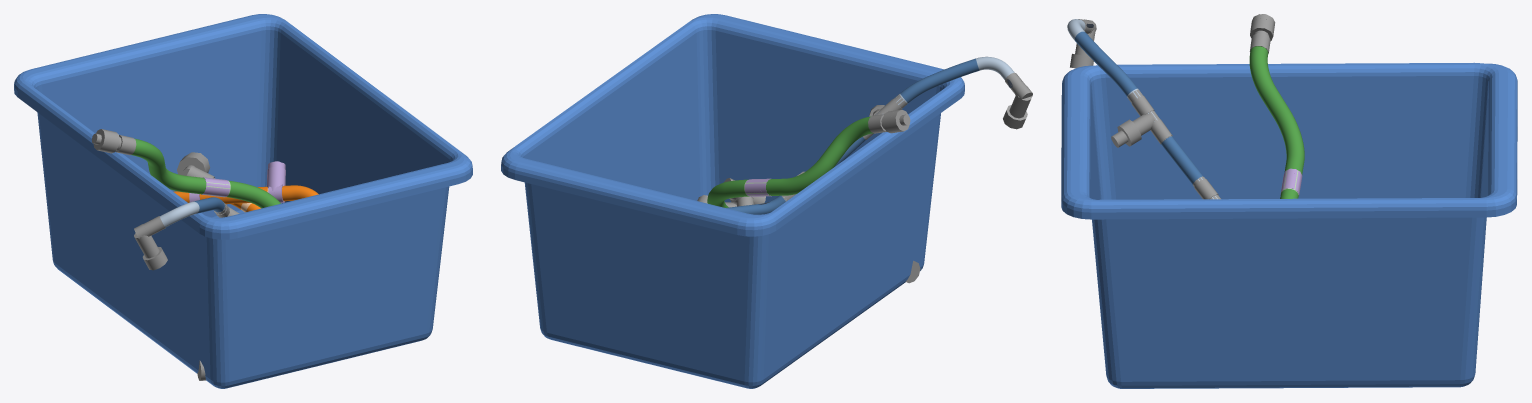
3 renders of one model, left to right at view 1: azimuth 30°, elevation 25°; view 2: azimuth 150°, elevation 25°; view 3: azimuth 270°, elevation 25°, orthographic. The views are drawn at different scales.
Visible parts, largest first — view 1: bin, tube_3_Y, tube_0_AB, tube_1_X, tube_4_X; view 2: bin, tube_3_Y, tube_0_AB; view 3: bin, tube_0_AB, tube_3_Y.
Boxes of the visible parts, x1,y1,x2,y2 form: bin: (14,14,472,388); tube_3_Y: (91,129,280,208); tube_0_AB: (134,197,239,270); tube_1_X: (173,161,318,204); tube_4_X: (177,152,260,380); bin: (501,14,964,388); tube_3_Y: (707,109,910,207); tube_0_AB: (726,56,1032,214); bin: (1061,62,1517,388); tube_0_AB: (1067,19,1220,199); tube_3_Y: (1249,14,1304,198).
Size of the model in its own units: 0.3663 by 0.2313 by 0.397.
